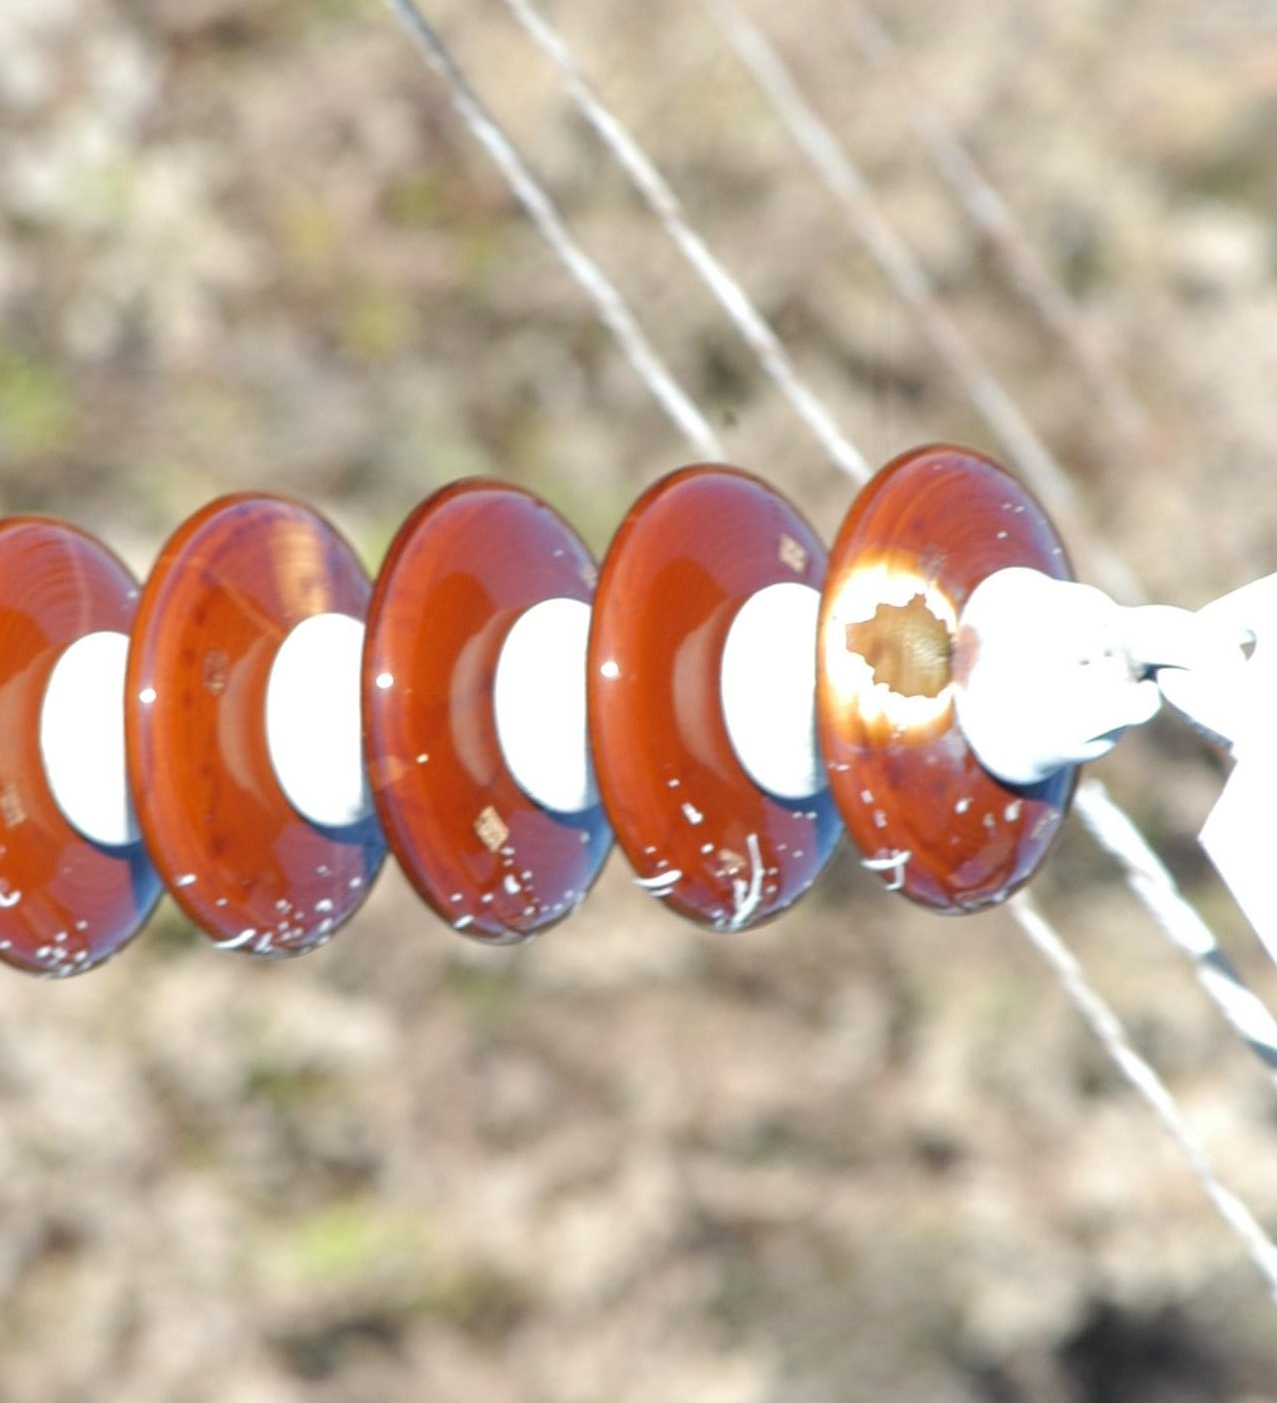Insulator flashover: (802, 425, 1096, 928)
